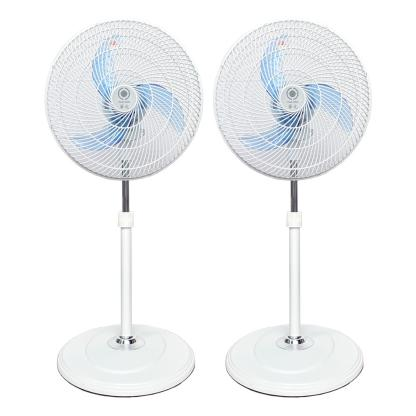fan: (38, 15, 204, 403), (212, 13, 378, 400)
